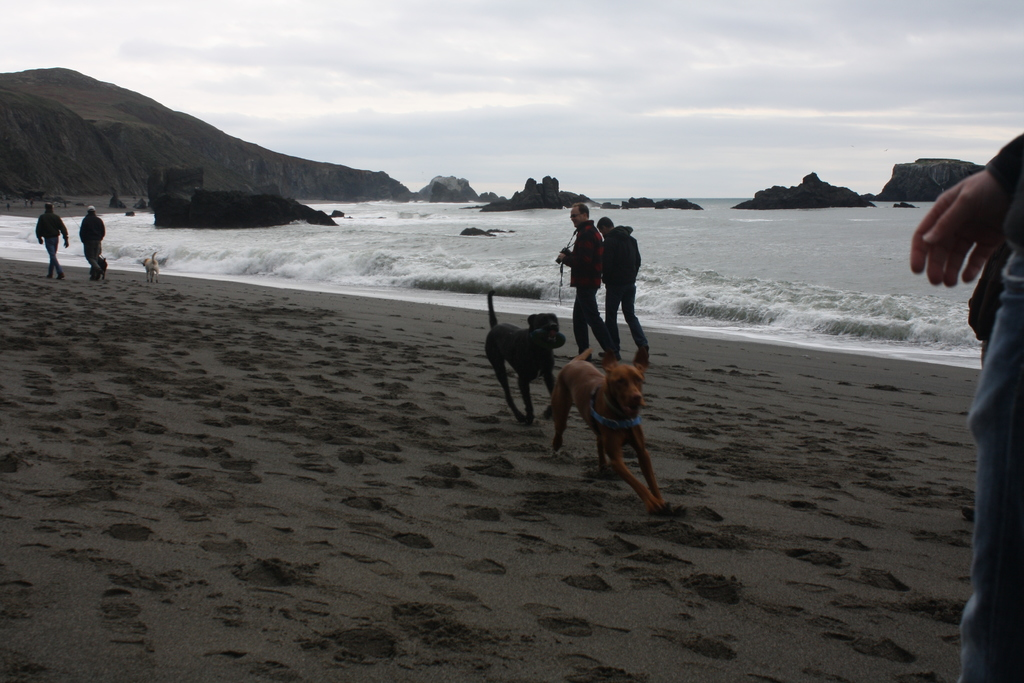Human_hand: (927, 157, 1018, 289), (557, 255, 564, 263)
